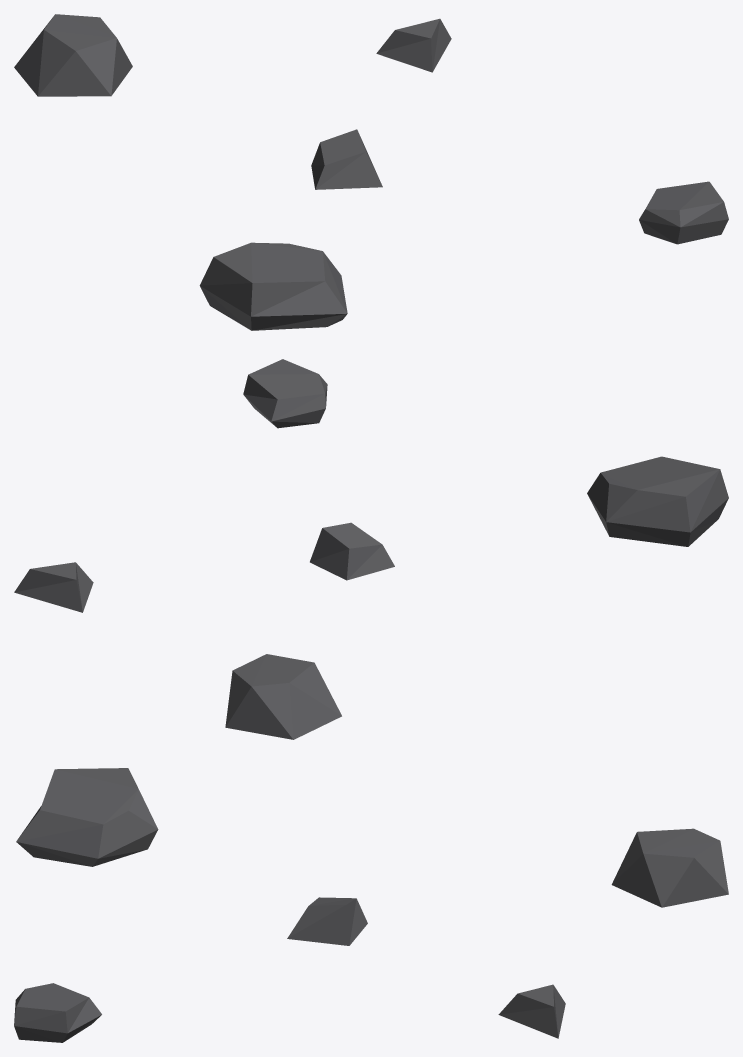
File: TB_Env_Stone_Set2_C.FBX
3 renders of one model, top to bottom at view 1: azimuth 30°, elevation 25°; view 2: azimuth 150°, elevation 25°; view 3: azimuth 270°, elevation 25°, orthographic.
Visible parts, largest first — view 1: TB_Env_Stone_Set2_C; view 2: TB_Env_Stone_Set2_C; view 3: TB_Env_Stone_Set2_C.
Part boxes in pixels (x1=…): TB_Env_Stone_Set2_C: x1=14, y1=14, x2=728, y2=330; TB_Env_Stone_Set2_C: x1=14, y1=359, x2=728, y2=739; TB_Env_Stone_Set2_C: x1=14, y1=768, x2=728, y2=1042.
Size of the model in its own units: 2.34 by 0.2286 by 3.02.
